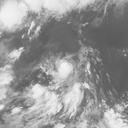cyclone: (45, 55, 81, 88)
